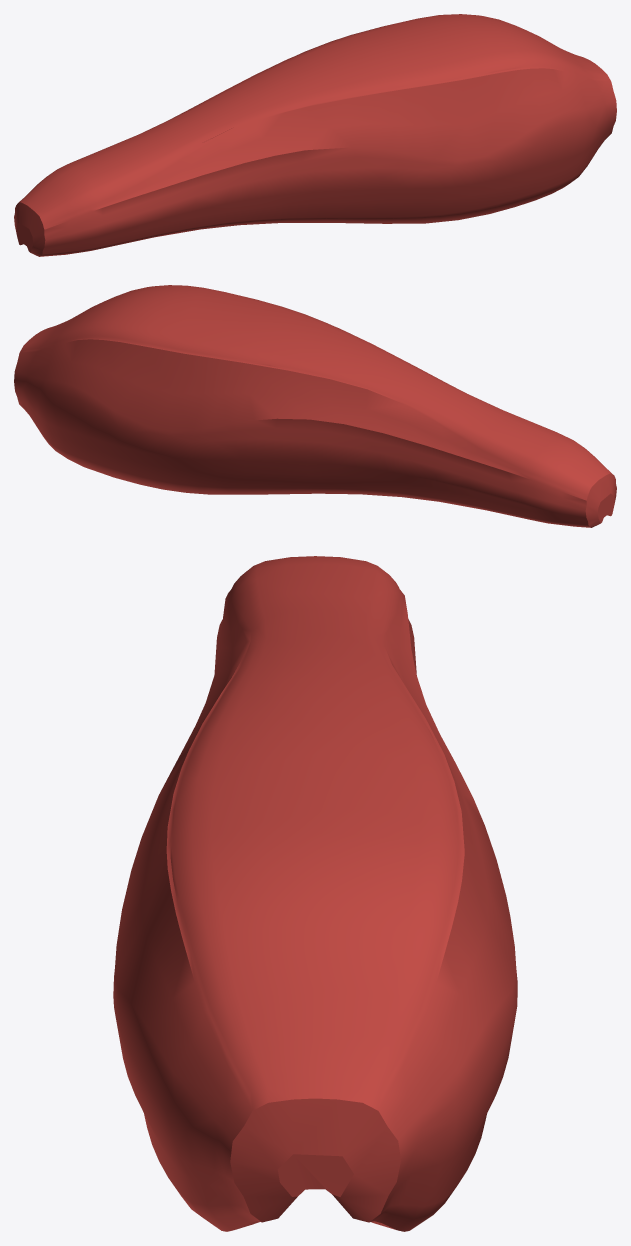
File: cruiser_5_lod2.glb
3 renders of one model, top to bottom at view 1: azimuth 30°, elevation 25°; view 2: azimuth 150°, elevation 25°; view 3: azimuth 270°, elevation 25°, orthographic. The views are drawn at different scales.
Parts seen in each view (by area): view 1: cruiser_5_lod2; view 2: cruiser_5_lod2; view 3: cruiser_5_lod2.
Boxes of the visible parts, x1=… form: cruiser_5_lod2: x1=14, y1=14, x2=616, y2=256; cruiser_5_lod2: x1=14, y1=285, x2=616, y2=527; cruiser_5_lod2: x1=113, y1=556, x2=517, y2=1231.
Size of the model in its own units: 1.06 by 0.2827 by 0.3237.
